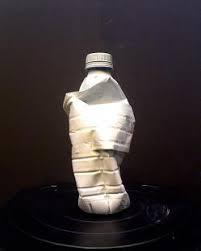Plastic: (63, 40, 140, 221)
